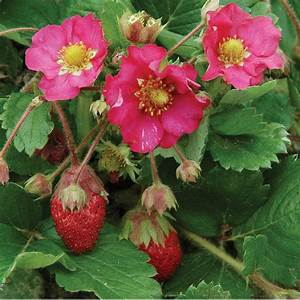Fresa: (44, 158, 115, 260), (121, 211, 188, 286)
